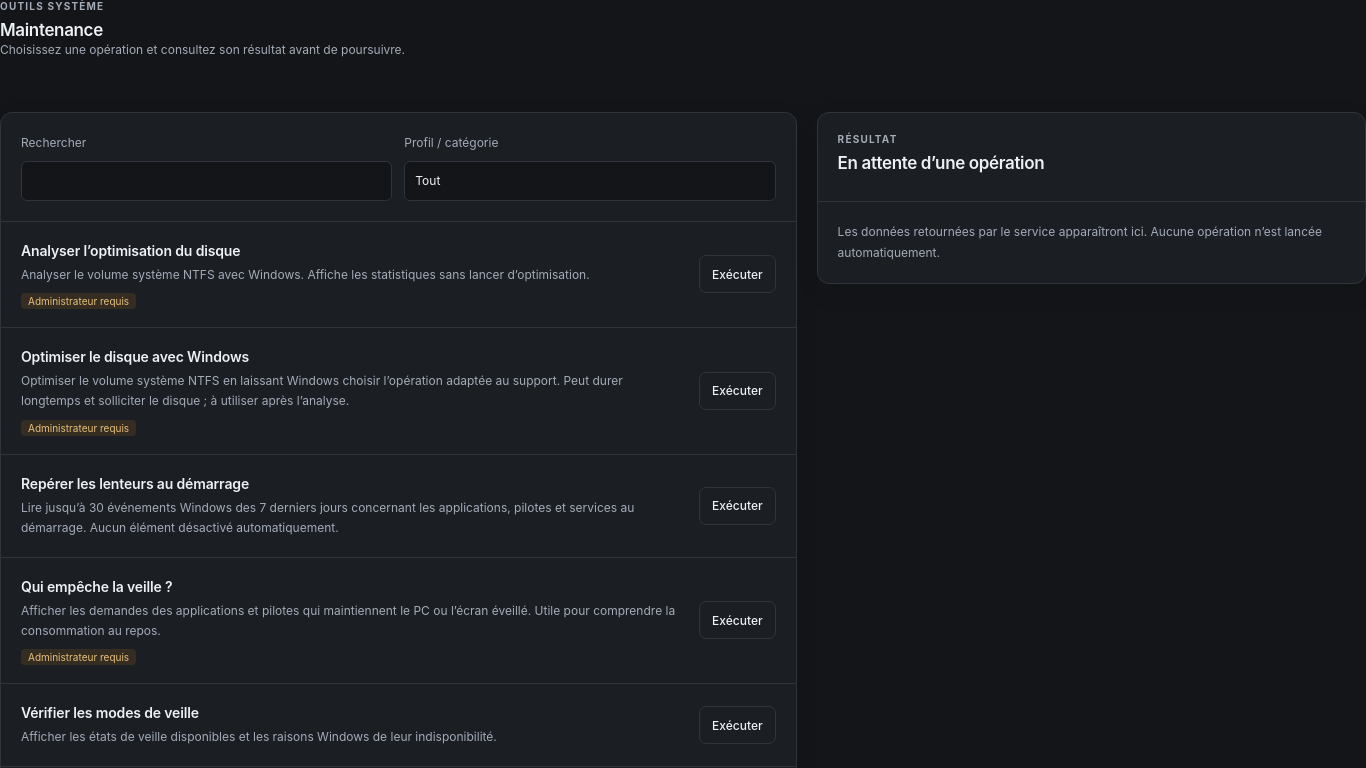
Test: confirmations et résultats de maintenance › affiche les lenteurs de démarrage identifiées dans un tableau lisible
The width and height of the screenshot is (1366, 768).
Step 1. Click the button "Exécuter" in the row of "Repérer les lenteurs au démarrage" → coordinates (737, 506), box [699,487,776,525]
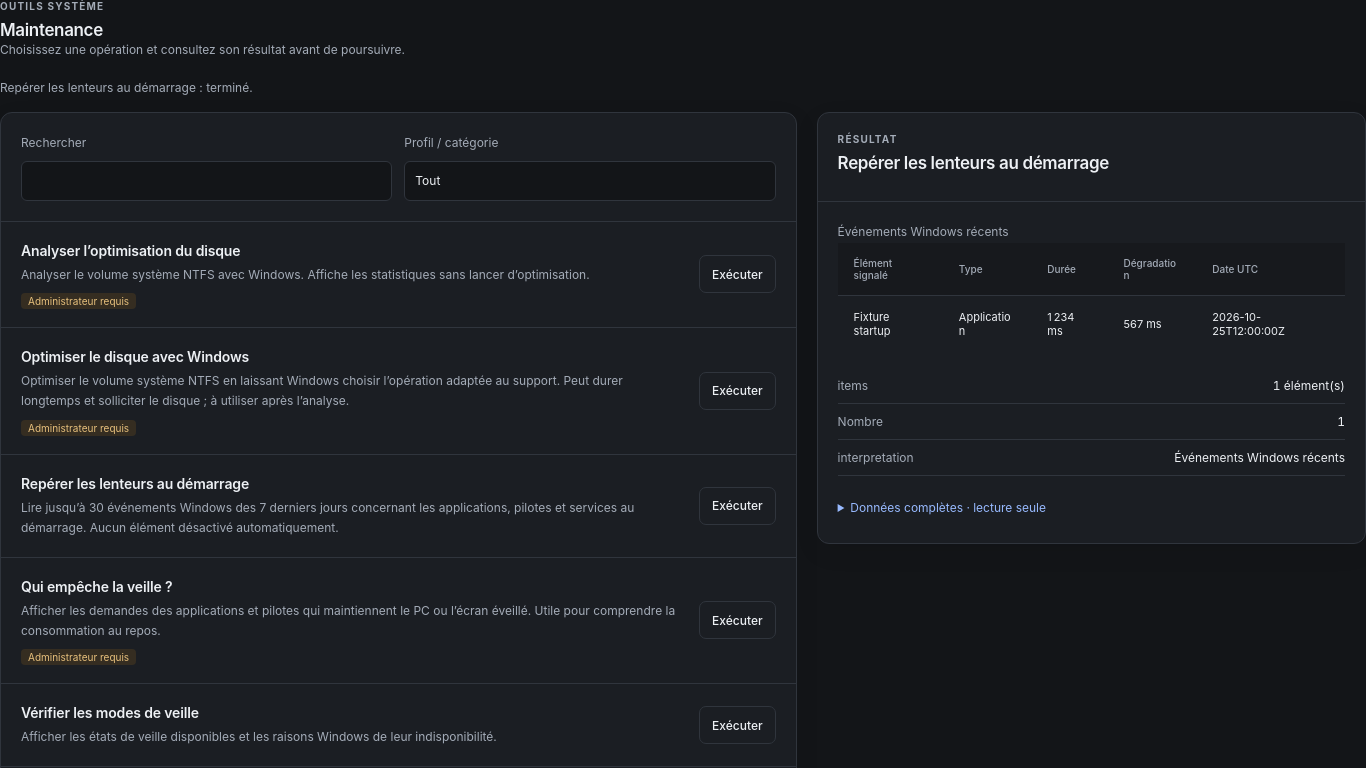
Result: the table shows "Fixture startup" at [854,310,890,338]
Result: the table shows "Application" at [959,310,1011,338]
